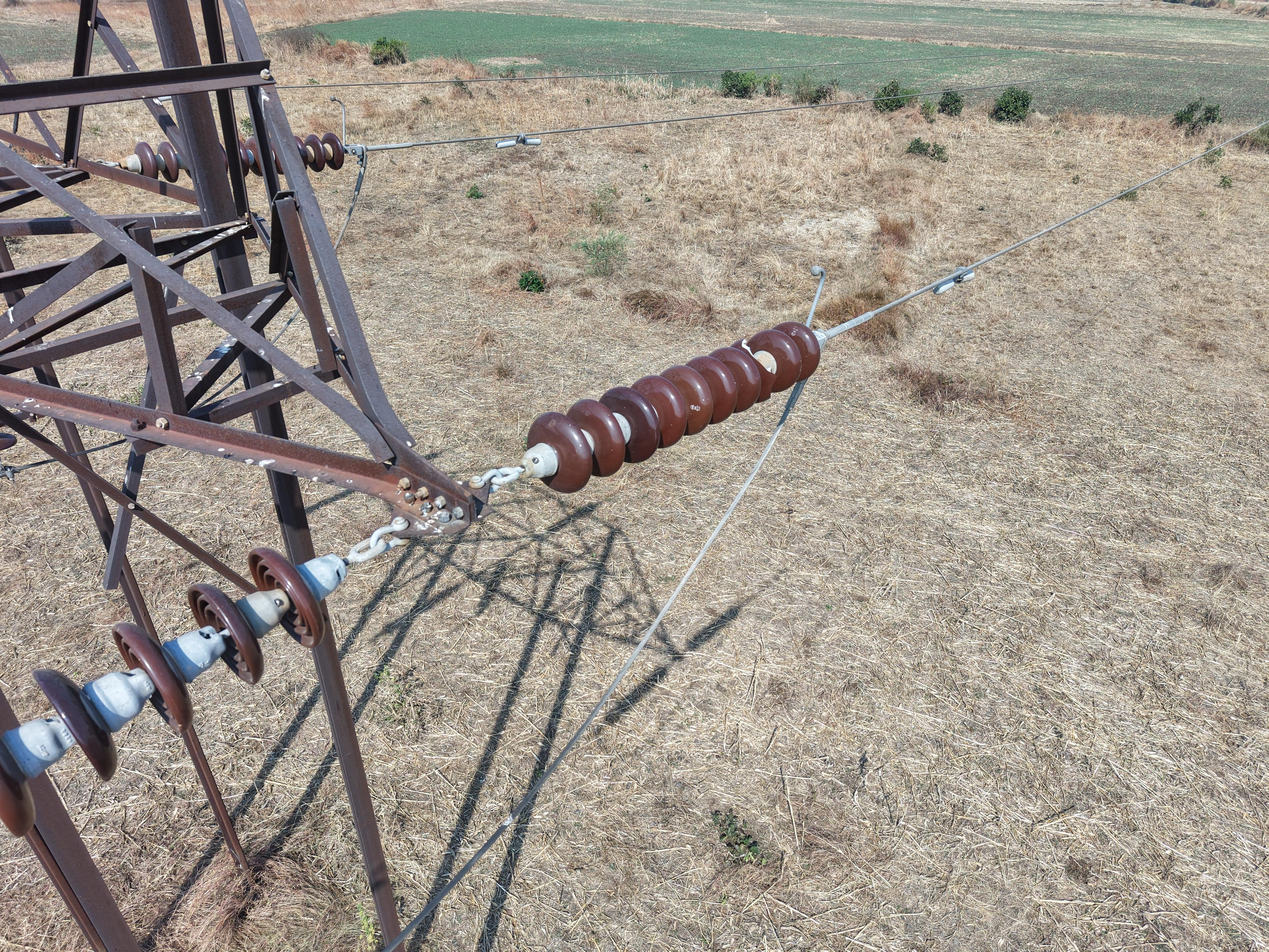broken_insulator: (734, 337, 778, 402)
